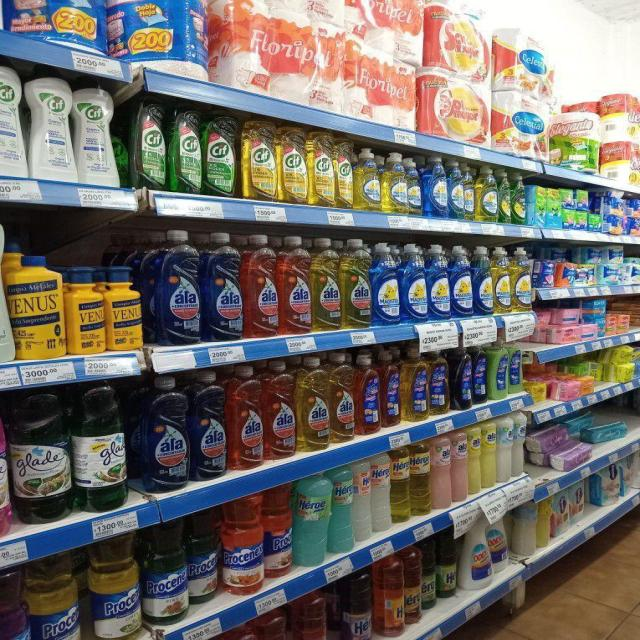ala_conc_amarillo: (298, 356, 330, 452), (312, 236, 341, 332), (342, 238, 371, 328), (330, 353, 355, 442)
ala_conc_azul: (140, 375, 189, 492), (154, 228, 201, 345), (203, 230, 243, 342), (190, 370, 228, 480)
ala_conc_rojo: (228, 364, 264, 470), (244, 233, 279, 339), (264, 360, 296, 460), (280, 235, 312, 335)
ala_crem_amarillo: (482, 419, 496, 491), (468, 422, 481, 496)
ala_crem_blanco: (498, 416, 512, 484), (513, 413, 525, 479)
ala_crem_rosado: (432, 434, 452, 510), (452, 428, 468, 502)
cif_conc_bot_amarilla: (241, 120, 278, 202), (279, 126, 307, 204), (308, 131, 334, 207), (335, 137, 354, 208)
cif_conc_botella_verde: (132, 99, 168, 190), (204, 113, 238, 197), (170, 106, 202, 195)
cif_conc_sachet_amarillo: (0, 407, 10, 540)
heroe: (294, 473, 328, 567), (330, 464, 353, 554), (410, 440, 430, 517), (372, 452, 390, 536), (353, 459, 371, 542), (391, 446, 409, 525)
magistral_con_amarillo: (354, 147, 380, 211), (382, 152, 406, 214), (512, 246, 532, 312), (476, 166, 498, 222), (493, 246, 511, 314), (406, 156, 422, 215), (463, 163, 476, 220)
magistral_con_azul: (372, 242, 399, 325), (401, 243, 426, 322), (428, 244, 450, 320), (450, 245, 472, 318), (424, 156, 448, 218), (473, 245, 492, 316), (449, 160, 464, 219)
zorro: (402, 347, 428, 422), (356, 352, 379, 434), (380, 350, 400, 427), (430, 348, 450, 416), (452, 346, 472, 410), (488, 342, 508, 401), (473, 344, 487, 406)
